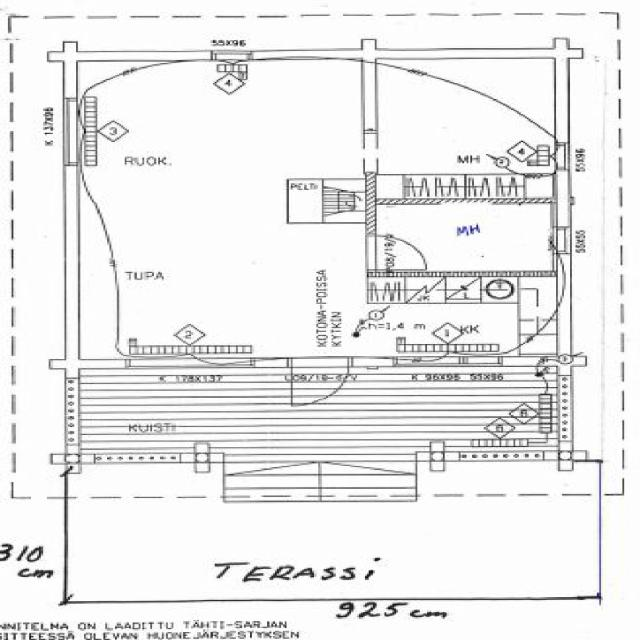door: (292, 358, 350, 408), (366, 235, 428, 271)
